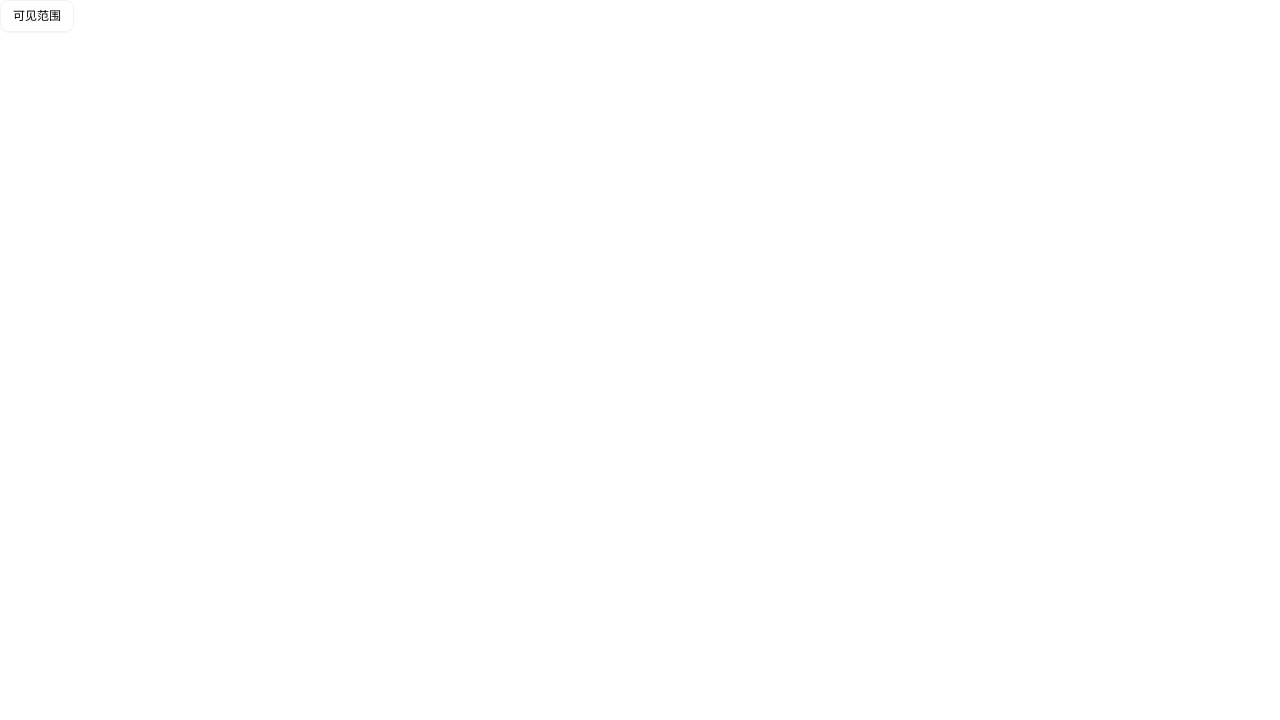
Test: SkillVisibilityDialog › reloads a pending request and prevents duplicate submission
What coordinates should you click on to do the following:
click the button "可见范围"
I would click on:
 (37, 16)
Its box is [0,0,74,32].
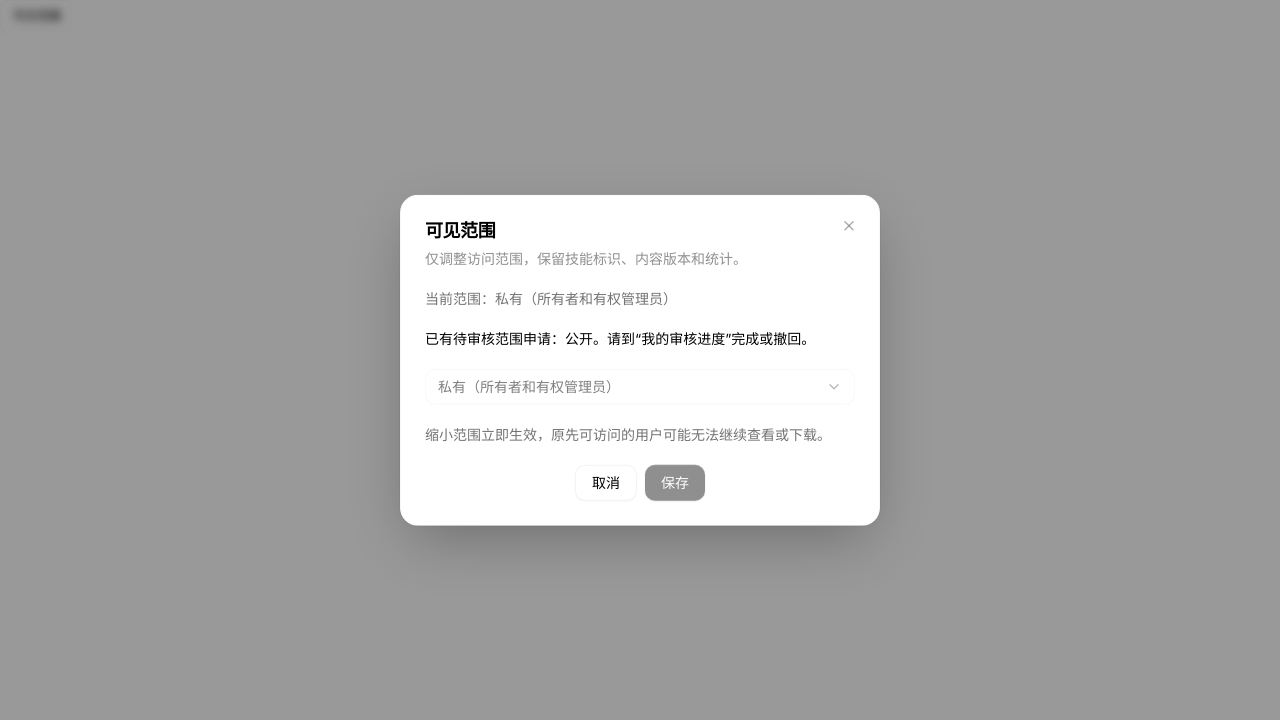
Expected: the message "已有待审核范围申请：公开。请到“我的审核进度”完成或撤回。" is shown, [425,328,855,348]
Expected: the dropdown is disabled, [425,368,855,404]
Expected: the button "保存" is disabled, [645,464,705,500]
